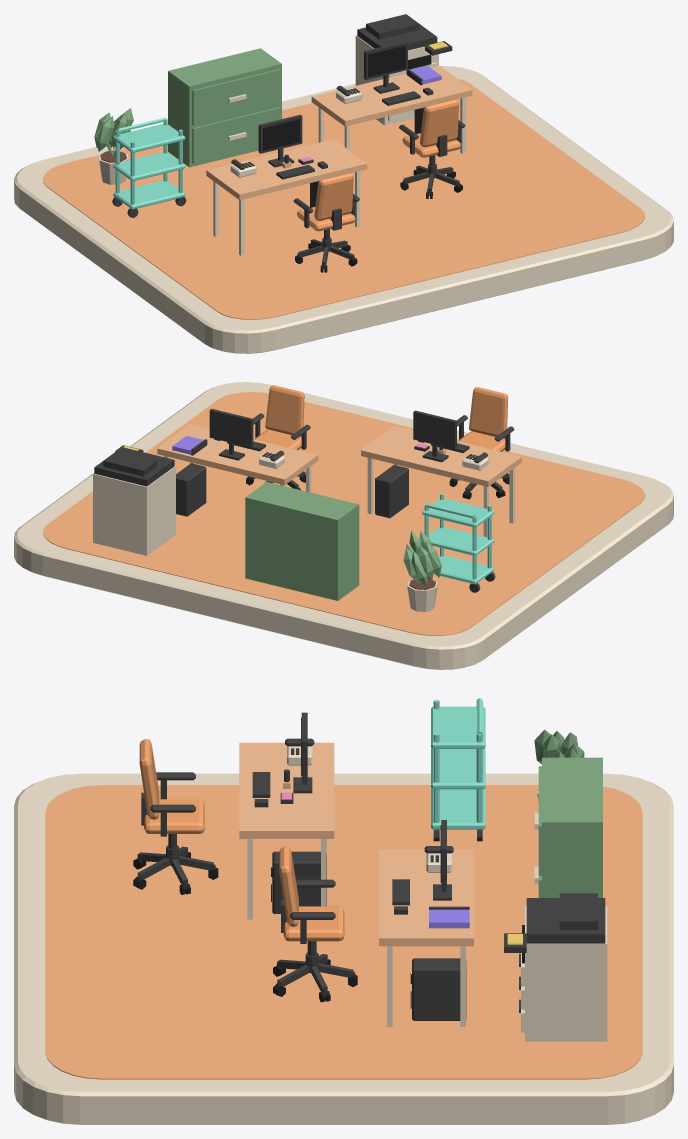
3 renders of one model, top to bottom at view 1: azimuth 30°, elevation 25°; view 2: azimuth 150°, elevation 25°; view 3: azimuth 270°, elevation 25°, orthographic. The views are drawn at different scales.
Visible parts, largest first — view 1: COM-02 Floor Surface, COM-01 Rounded Base Direct, Cabinet, Top, Top.001, Body, COM-04_Chair_blender_direct, COM-04_Chair_blender_direct.001, Pot, Frame.001, Frame, Tray.002 (+2 smaller); view 2: COM-02 Floor Surface, COM-01 Rounded Base Direct, Cabinet, Body, Top, Top.001, COM-04_Chair_blender_direct, COM-04_Chair_blender_direct.001, Pot, Frame.001, Frame, Tower (+4 smaller); view 3: COM-02 Floor Surface, COM-01 Rounded Base Direct, Body, Cabinet, Top, Top.001, COM-04_Chair_blender_direct.001, COM-04_Chair_blender_direct, Tower.001, Tray.002, Tray.001, Tray (+5 smaller).
Part boxes in pixels (x1,y1,x2,y2): COM-02 Floor Surface: (42, 78, 645, 319); COM-01 Rounded Base Direct: (14, 66, 673, 353); Cabinet: (168, 48, 281, 167); Top: (206, 139, 367, 255); Top.001: (311, 65, 472, 153); Body: (355, 14, 452, 125); COM-04_Chair_blender_direct: (293, 173, 359, 272); COM-04_Chair_blender_direct.001: (399, 99, 465, 198); Pot: (94, 108, 133, 184); Frame.001: (364, 41, 407, 93); Frame: (258, 114, 302, 167); Tray.002: (113, 123, 185, 152); COM-02 Floor Surface: (42, 392, 645, 635); COM-01 Rounded Base Direct: (14, 382, 673, 669); Cabinet: (245, 482, 359, 600); Body: (93, 445, 175, 555); Top: (361, 426, 521, 537); Top.001: (157, 424, 318, 492); COM-04_Chair_blender_direct: (449, 387, 514, 499); COM-04_Chair_blender_direct.001: (246, 385, 310, 489); Pot: (403, 531, 441, 611); Frame.001: (209, 408, 253, 460); Frame: (413, 410, 456, 462); Tower: (375, 465, 408, 518); COM-02 Floor Surface: (45, 785, 642, 1079); COM-01 Rounded Base Direct: (14, 773, 673, 1124); Body: (504, 893, 607, 1041); Cabinet: (534, 757, 602, 897); Top: (239, 742, 334, 919); Top.001: (379, 849, 473, 1026); COM-04_Chair_blender_direct.001: (273, 846, 357, 1002); COM-04_Chair_blender_direct: (133, 739, 218, 894); Tower.001: (412, 958, 466, 1020); Tray.002: (431, 706, 485, 748); Tray.001: (431, 748, 485, 789); Tray: (431, 788, 485, 829).
Size of the model in its own units: 6 by 1.61 by 5.2.
Materials: 1 (1 with a texture image).
